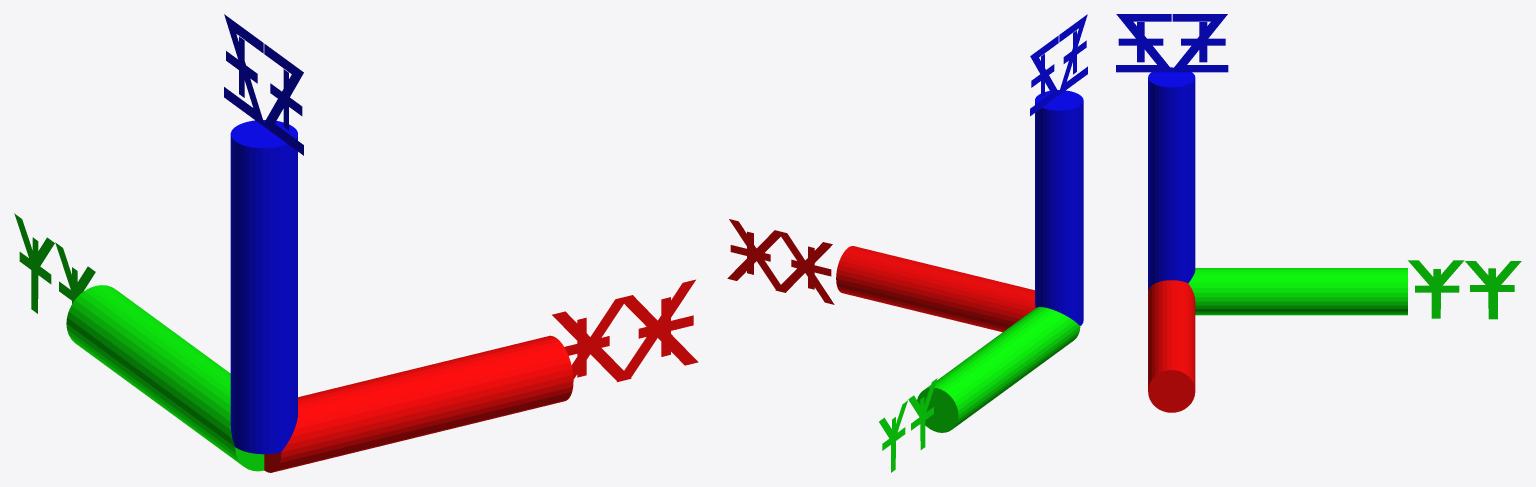
Rendered from MY_AXES.glb.
The picture shows the model from 3 angles, left to right: view 1: azimuth 30°, elevation 25°; view 2: azimuth 150°, elevation 25°; view 3: azimuth 270°, elevation 25°; orthographic projection. The views are drawn at different scales.
Visible parts, largest first — view 1: Text.003; view 2: Text.003; view 3: Text.003.
Part boxes in pixels (x1,y1,x2,y2): Text.003: [14, 14, 698, 472]; Text.003: [727, 14, 1087, 472]; Text.003: [1116, 14, 1521, 412].
Bounding box in the file's own units: 16.3 × 14.3 × 17.17.
1 material, 1 textured.
